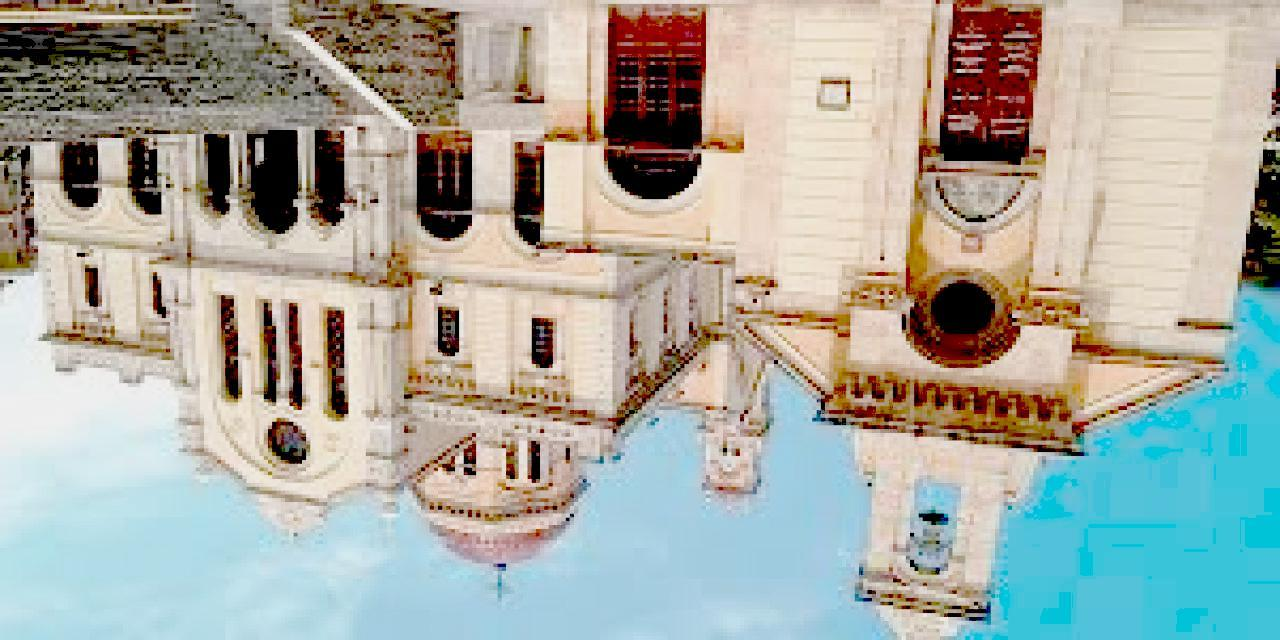Agios Minas: (26, 1, 1280, 640)
